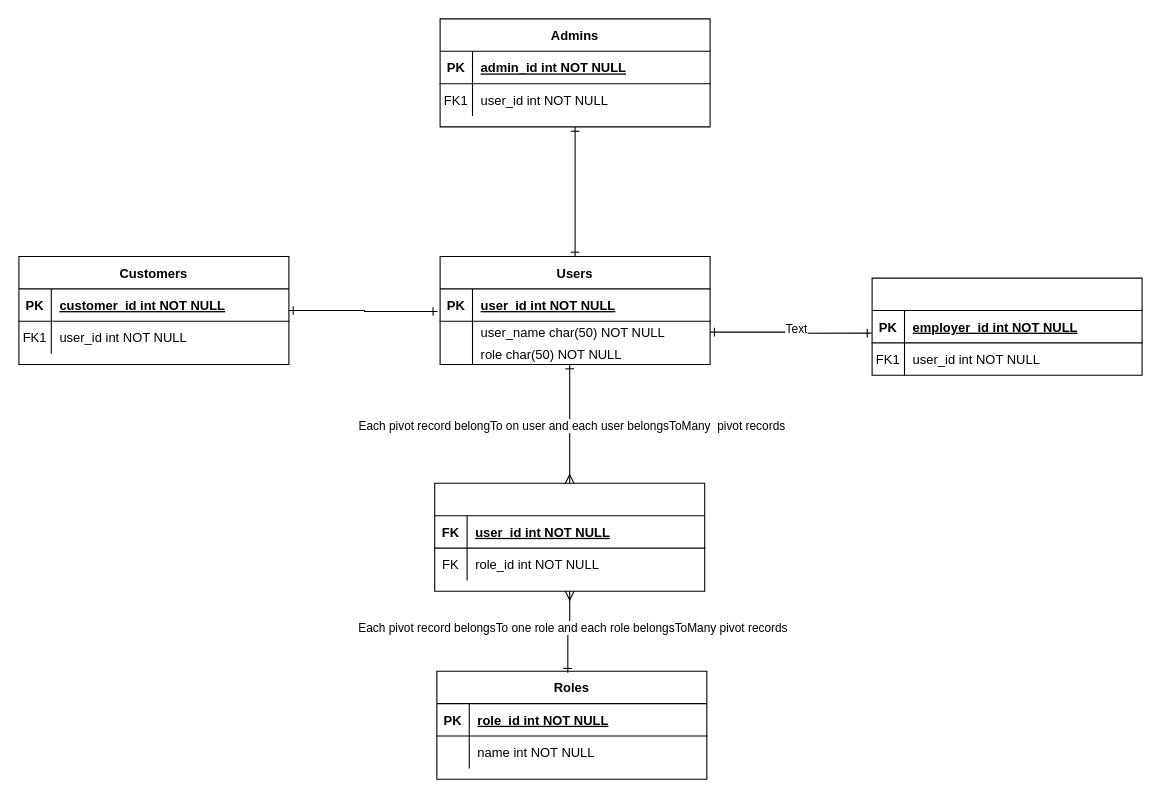
The diagram is 1161 pixels wide and 798 high, and some of its shapes have lost their labels. The box of each missing label's shape, as (x1, y1, x2, y2) in pixels:
Employees: (871, 277, 1142, 375)
Role_user: (434, 482, 705, 591)
